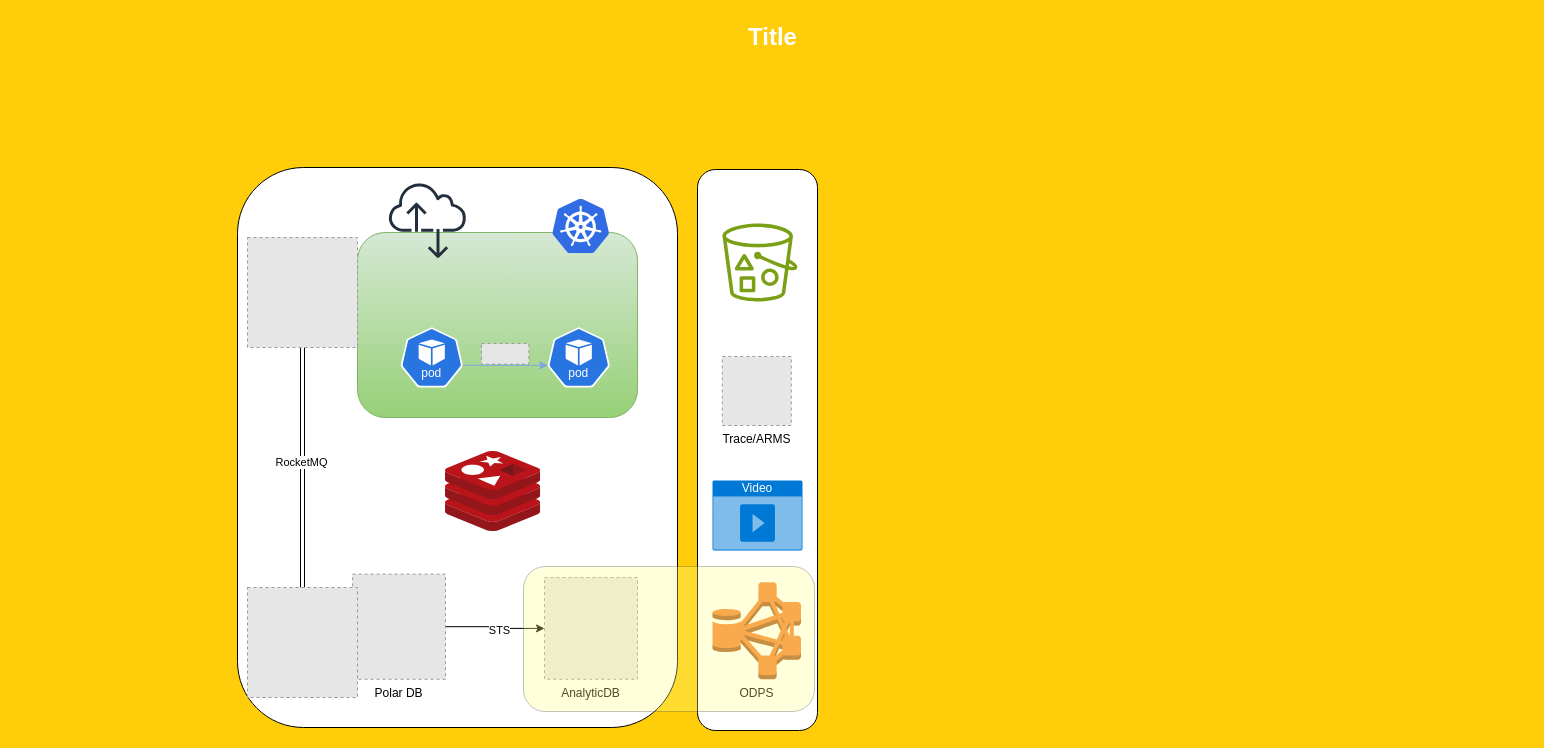
Some shapes in this 1544 by 748 pixel diagram are drawn without their labels. Grey dashed boxes stand in for pictures. Each missing label, with the box of its shape:
OSS CDN: (722, 223, 797, 301)
Redis: (445, 451, 540, 531)
SLB/istio: (388, 181, 466, 259)
